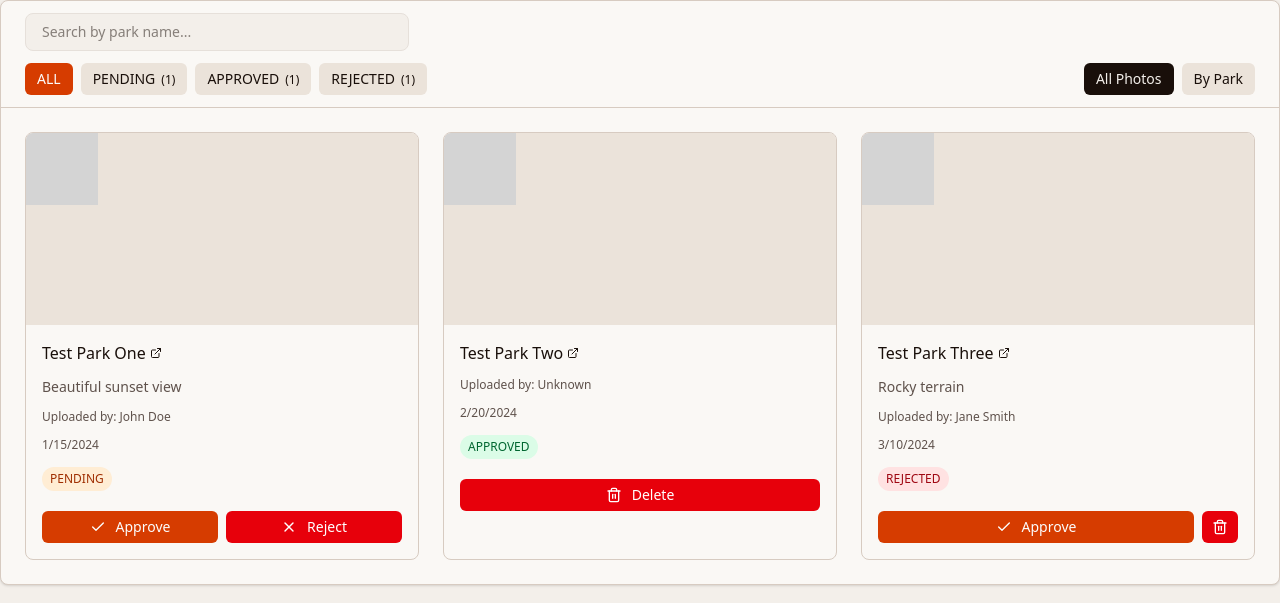
Scenario: PhotoModerationTable › should filter photos by PENDING status
Click PENDING filter tab
Click the button "PENDING(1)": (134, 79) [81,63,187,95]
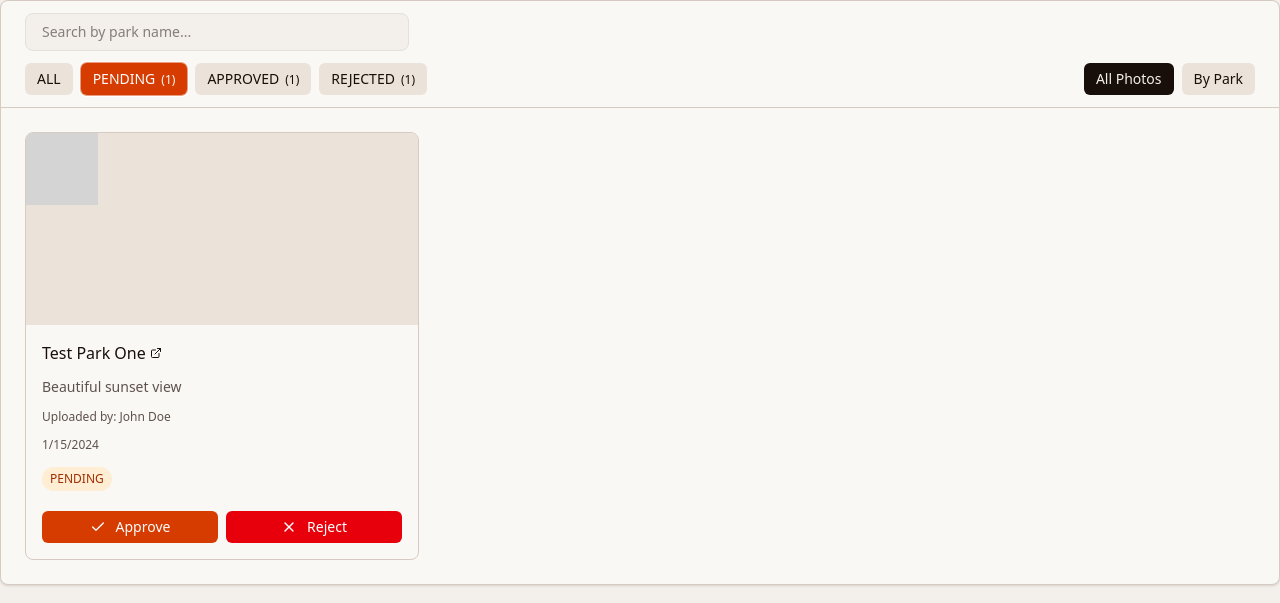
Check: the link "Test Park One" is shown, box [42,342,162,364]
Check: the link "Test Park Two" is gone
Check: the link "Test Park Three" is gone
